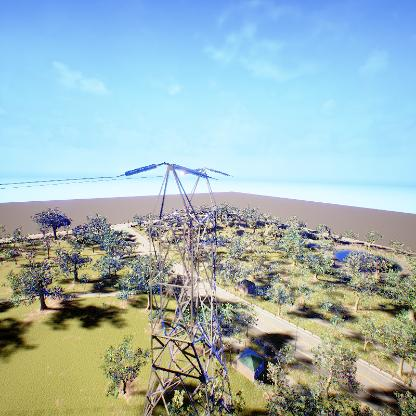tower: (116, 162, 235, 414)
